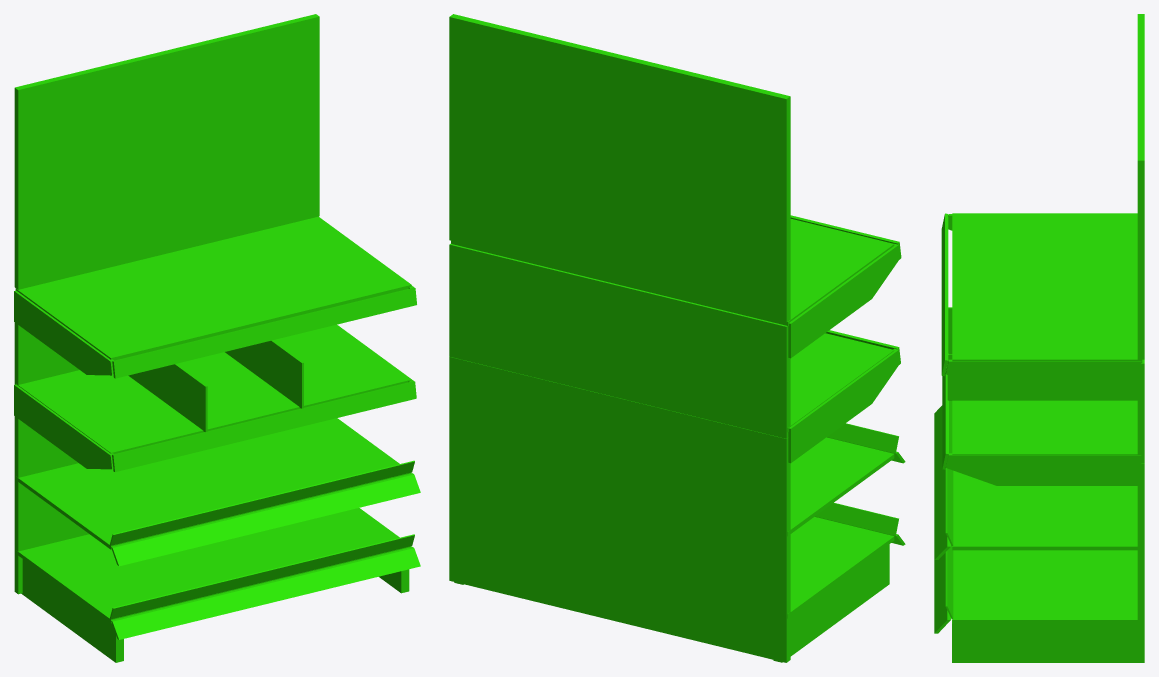
Rendered from Shop_Shelf_A_01_Lod0.fbx.
3 renders of one model, left to right at view 1: azimuth 30°, elevation 25°; view 2: azimuth 150°, elevation 25°; view 3: azimuth 270°, elevation 25°, orthographic. The views are drawn at different scales.
Parts seen in each view (by area): view 1: Shop_Shelf_A_01_Lod0; view 2: Shop_Shelf_A_01_Lod0; view 3: Shop_Shelf_A_01_Lod0.
Part boxes in pixels (bbox=[...]): Shop_Shelf_A_01_Lod0: bbox=[14, 14, 420, 662]; Shop_Shelf_A_01_Lod0: bbox=[449, 14, 905, 662]; Shop_Shelf_A_01_Lod0: bbox=[934, 14, 1144, 662].
Size of the model in its own units: 135 by 215 by 81.34.
